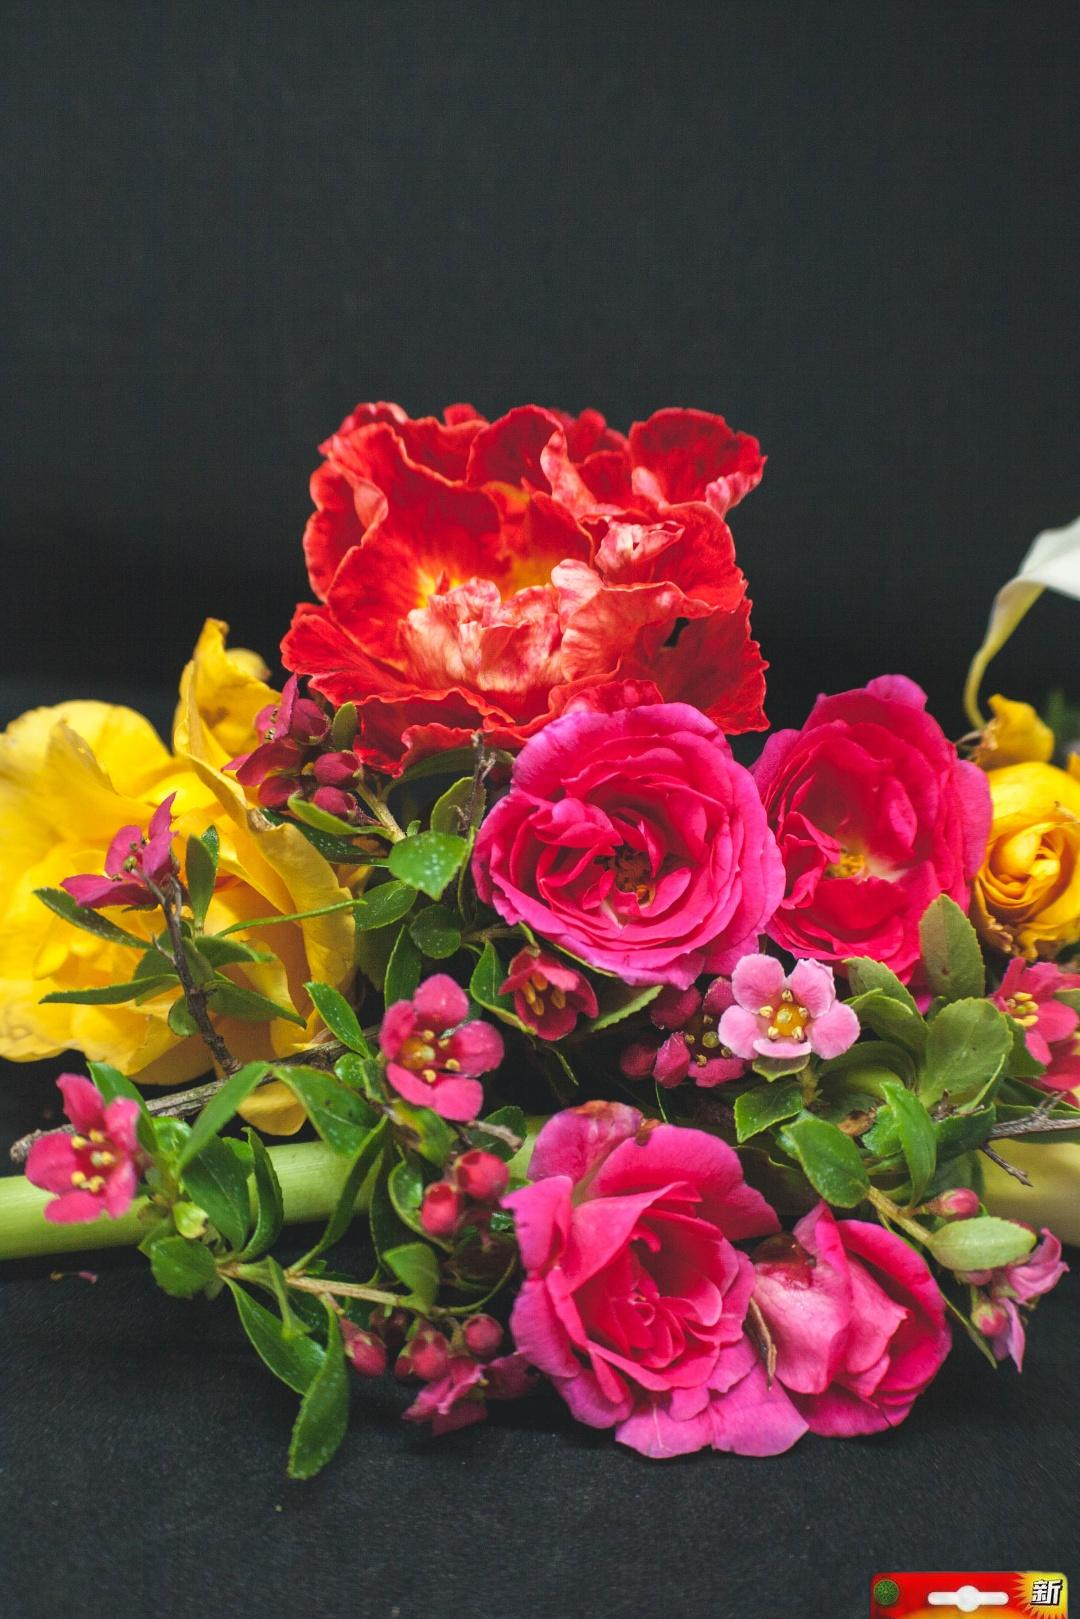battery: (865, 1570, 1074, 1619)
